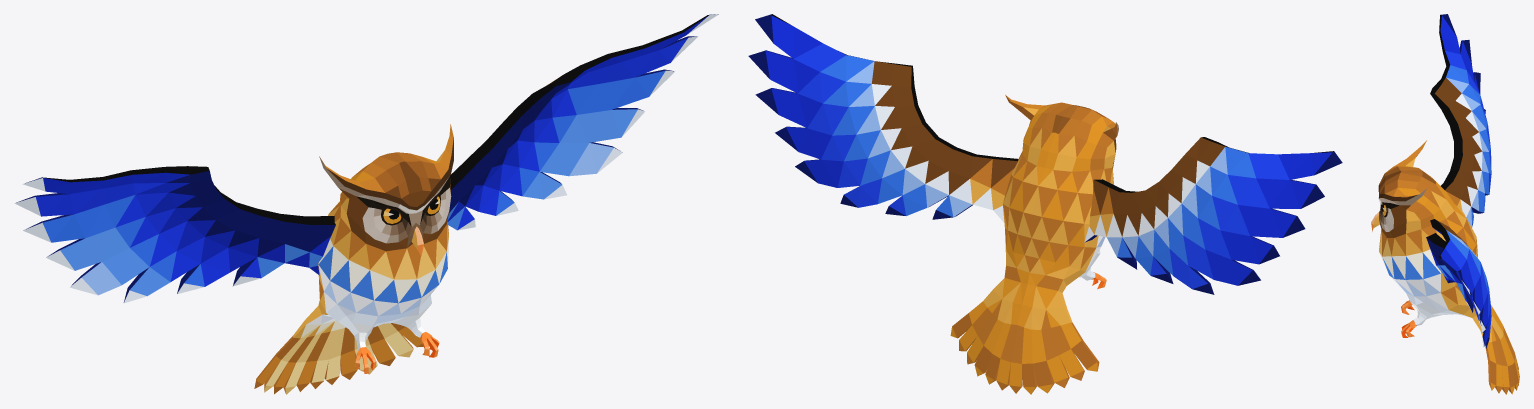
Rendered from 12_owl.glb.
3 views of the same model, side by side, from view 1: azimuth 30°, elevation 25°; view 2: azimuth 150°, elevation 25°; view 3: azimuth 270°, elevation 25° (orthographic). The views are drawn at different scales.
Parts seen in each view (by area): view 1: Cylinder001; view 2: Cylinder001; view 3: Cylinder001.
Part boxes in pixels (box(x1,y1,x2,y2)): Cylinder001: box(14, 14, 718, 394); Cylinder001: box(748, 14, 1342, 394); Cylinder001: box(1371, 14, 1519, 394).
Size of the model in its own units: 119 by 53.69 by 29.35.
1 material, 1 textured.
